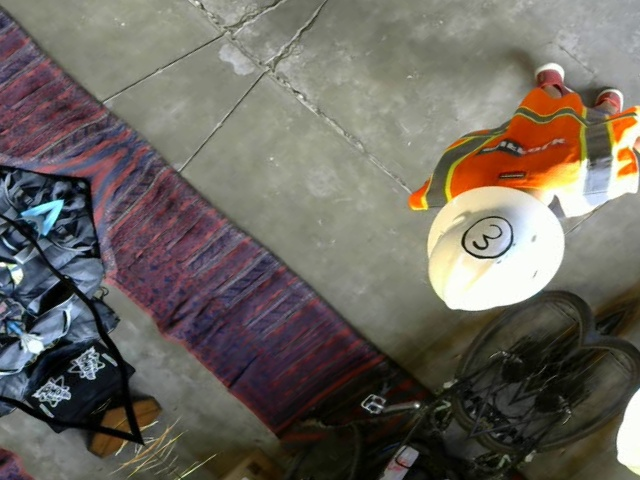three: (452, 208, 522, 268)
